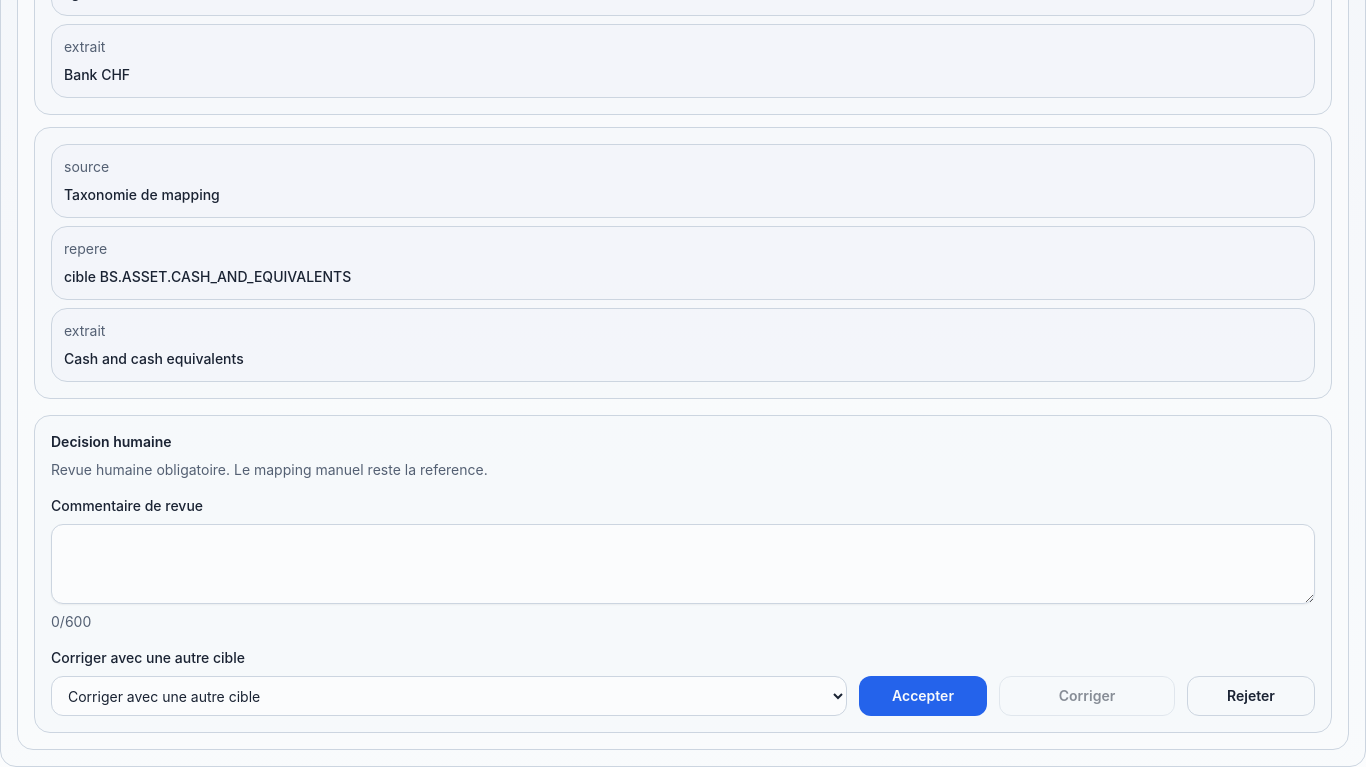
Test case: AiMappingSuggestionsPanel › sends ACCEPT only after a human click and refreshes suggestions after backend success
(page scrolled)
Click the button "Accepter". click: (923, 696)
box: [859,676,987,716]
(page scrolled)
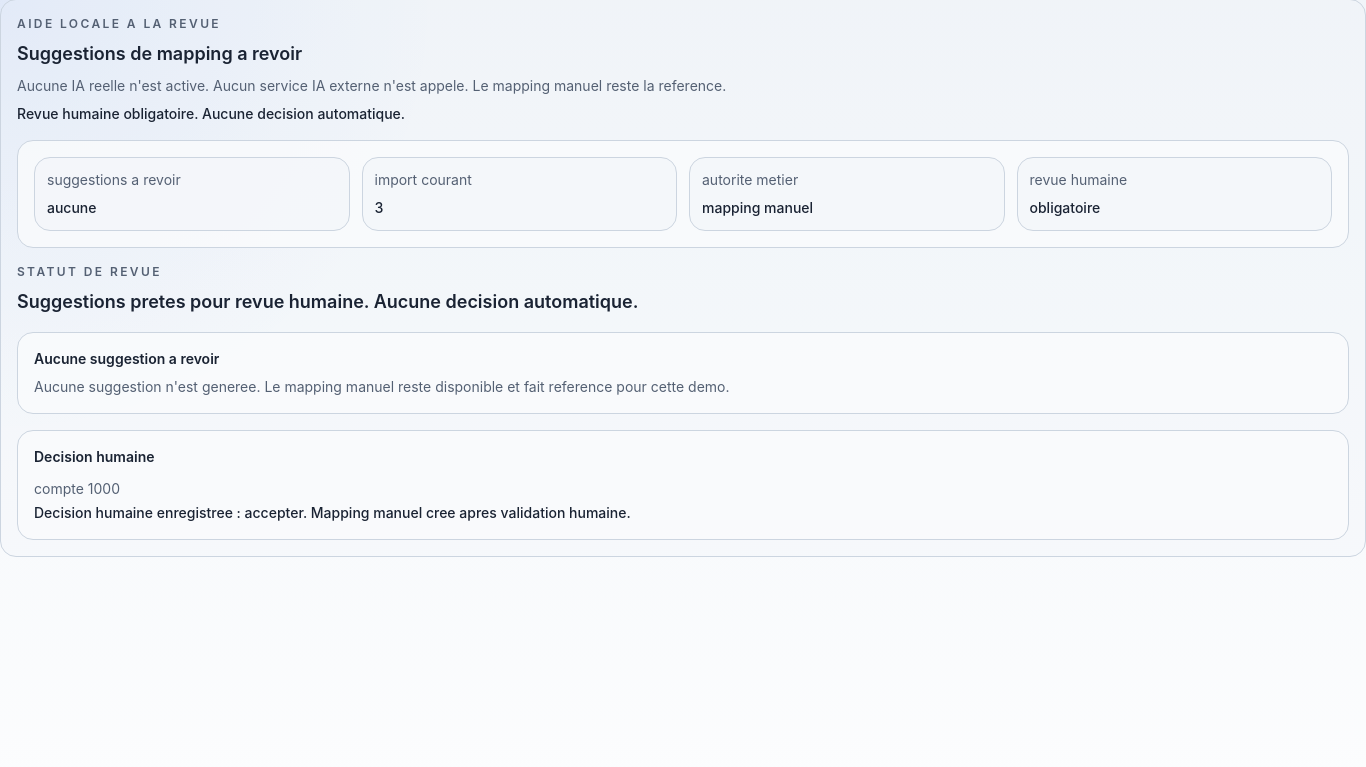
Expected: the text "Decision humaine enregistree : accepter" is shown, [34,504,631,521]
